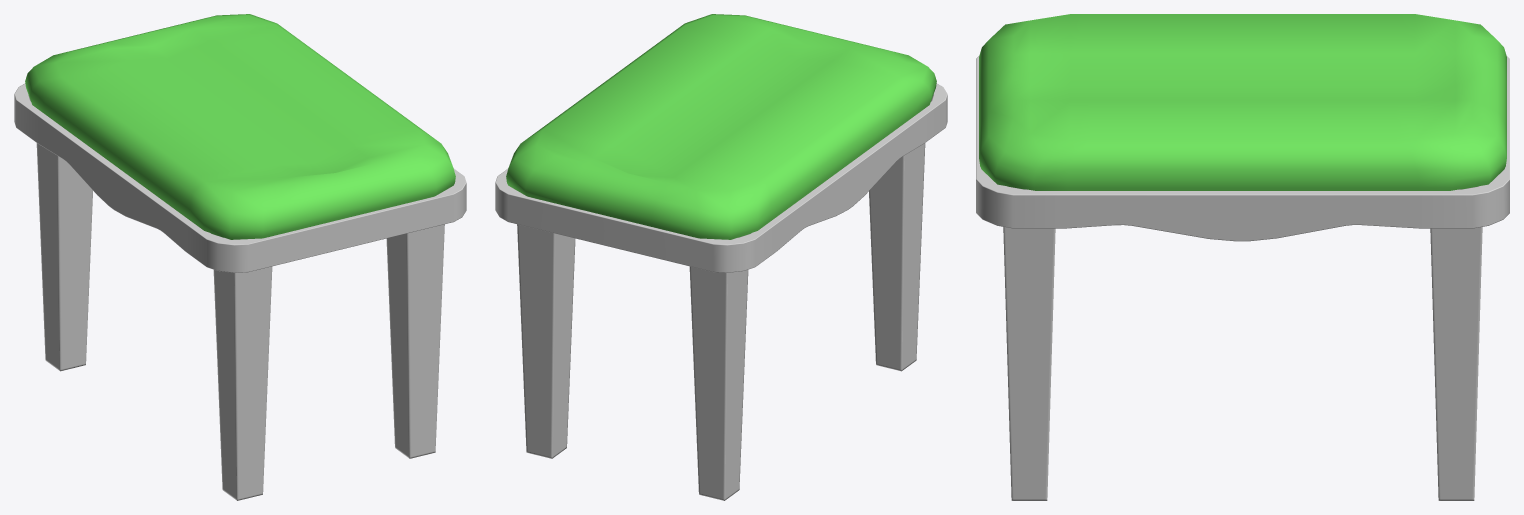
Rendered from stool.fbx.
3 views of the same model, side by side, from view 1: azimuth 30°, elevation 25°; view 2: azimuth 150°, elevation 25°; view 3: azimuth 270°, elevation 25° (orthographic). The views are drawn at different scales.
Parts seen in each view (by area): view 1: stool; view 2: stool; view 3: stool.
Boxes of the visible parts, <box> form: stool: <box>14,14,466,500</box>; stool: <box>495,14,947,500</box>; stool: <box>976,14,1509,500</box>.
Bounding box in the file's own units: 49.26 × 55.32 × 73.21.
